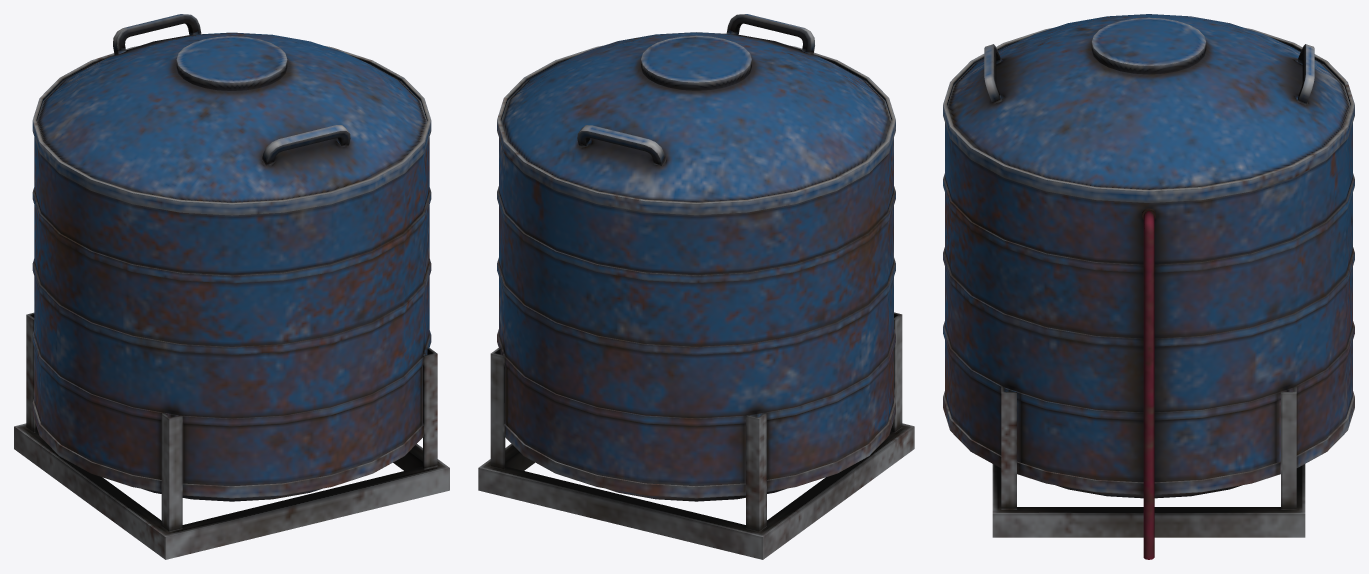
Rendered from Water_Tower_01.fbx.
3 views of the same model, side by side, from view 1: azimuth 30°, elevation 25°; view 2: azimuth 150°, elevation 25°; view 3: azimuth 270°, elevation 25° (orthographic). The views are drawn at different scales.
Visible parts, largest first — view 1: Water_Tower_1; view 2: Water_Tower_1; view 3: Water_Tower_1.
Part boxes in pixels (<box>): Water_Tower_1: <box>14,14,449,559</box>; Water_Tower_1: <box>478,14,914,559</box>; Water_Tower_1: <box>943,14,1354,559</box>.
Bounding box in the file's own units: 231 × 255 × 222.
